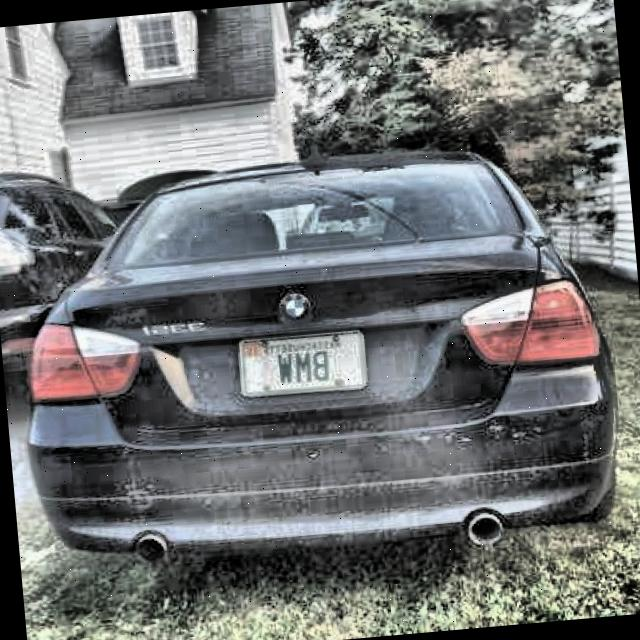license_plate: (240, 330, 370, 399)
